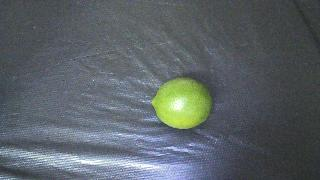LOCAL: (151, 77, 212, 129)
